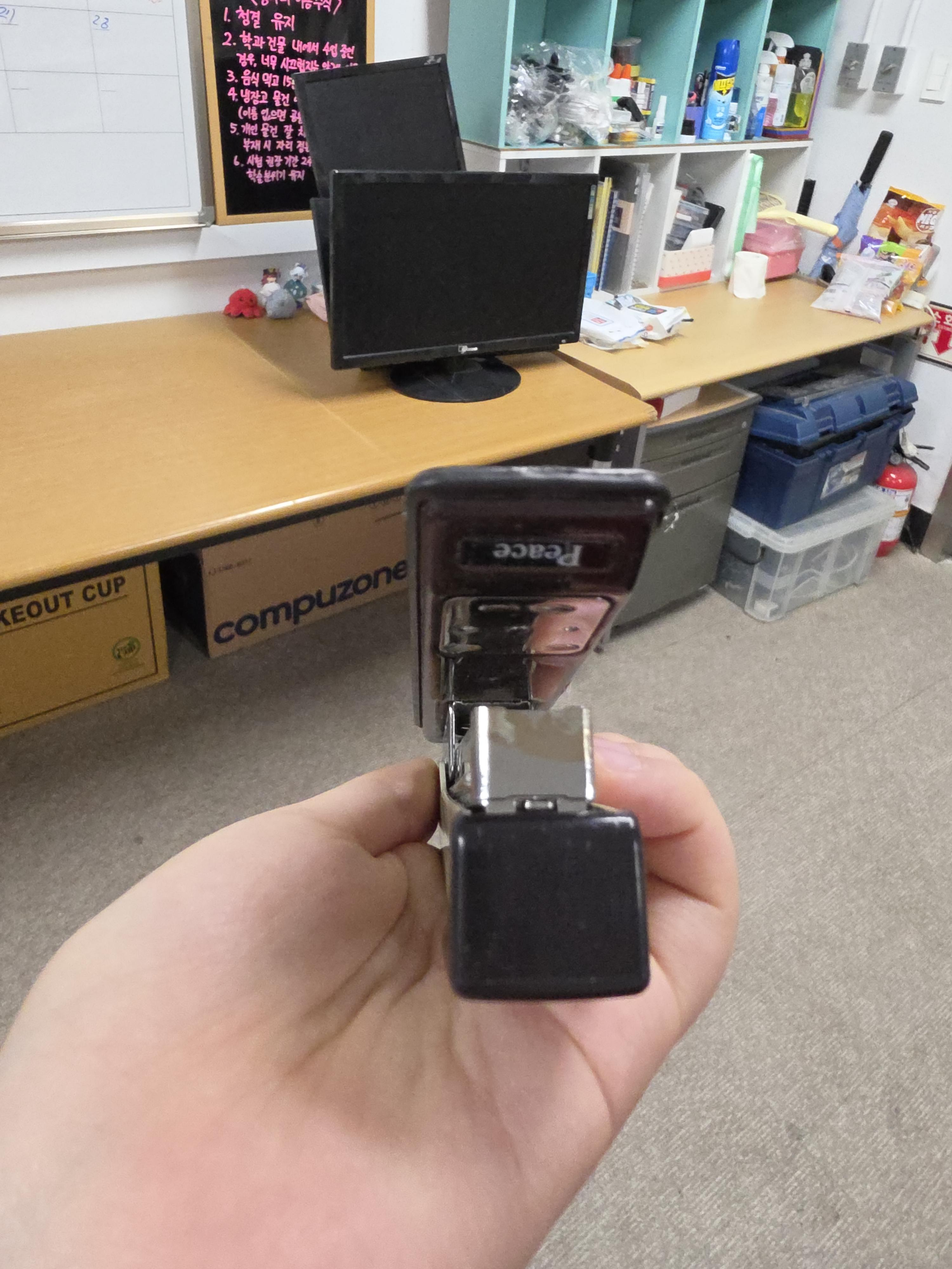stapler: (403, 464, 673, 1003)
tissue: (656, 226, 716, 290), (728, 251, 769, 300)
